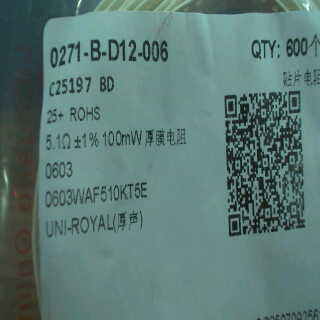5.1R: (43, 131, 72, 154)
